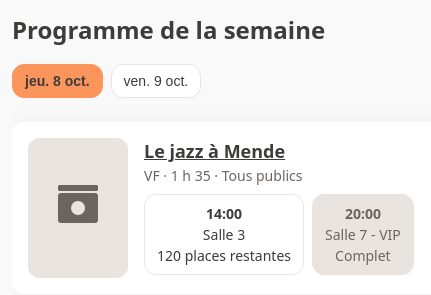
it: HomePage (US 1.1) › affiche les séances du jour choisi
Click the button "ven. 9 oct.": (156,81) [111,64,201,98]
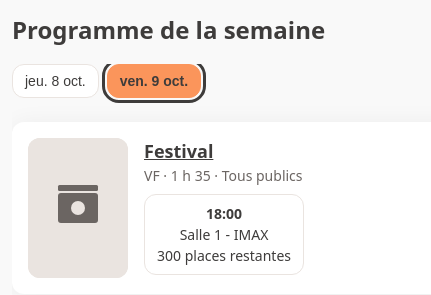
Check: the link "Festival" is shown, box [144,139,213,163]
Check: the link "Le jazz à Mende" is gone
